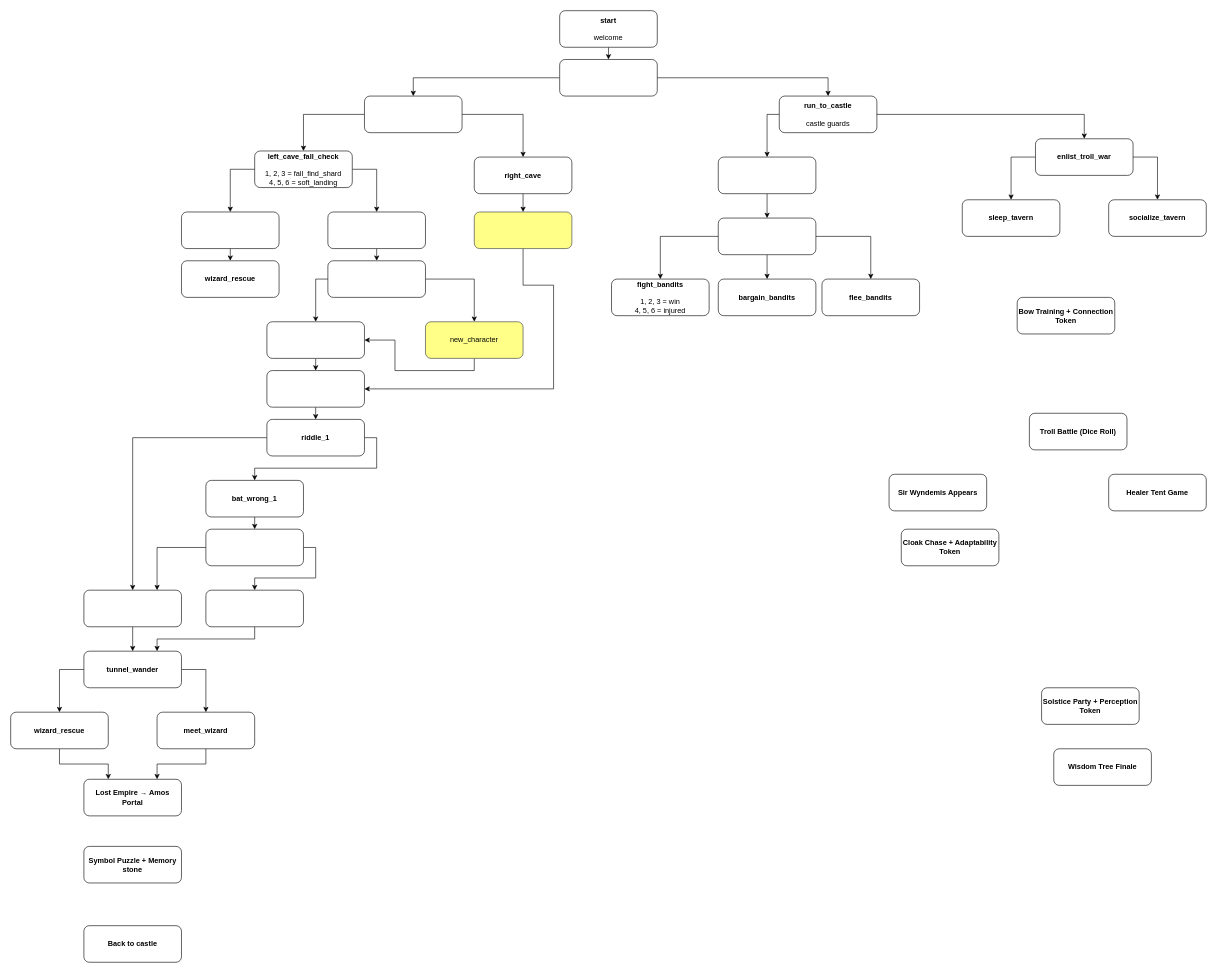
Image size: 1217x973. Some labels were removed from this diagram. The centre of each missing label's shape, as x and y in pixels:
bandit _encounter fight/flee/bargain: point (767, 236)
bat_correct Token: Insight Stone: point (132, 608)
bat_librarian: point (315, 388)
bat_wrong_2 Item: Scoll of Echoing Answers: point (254, 608)
fall_find_shard Item - Echo shard: point (230, 230)
hide_in_trees: point (413, 114)
mushroom_path: point (376, 278)
riddle_2: point (254, 547)
scene1 goblins approach: point (608, 77)
soft_landing Item - Echo shard: point (376, 230)
spider: point (523, 230)
traveling_salesman: point (767, 175)
underground_stream: point (315, 339)
